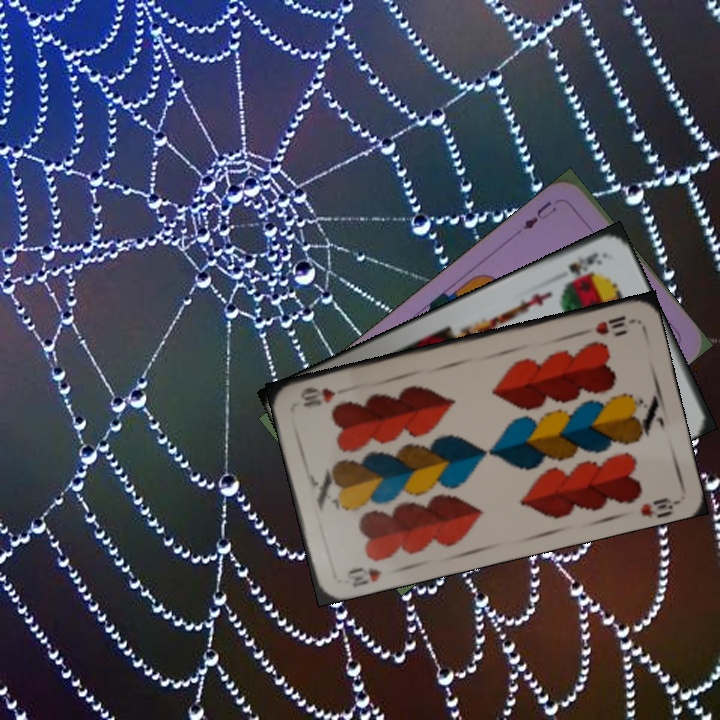EU: (519, 196, 560, 232)
H10: (339, 563, 385, 589), (591, 312, 628, 338)
SK: (564, 248, 605, 279)
